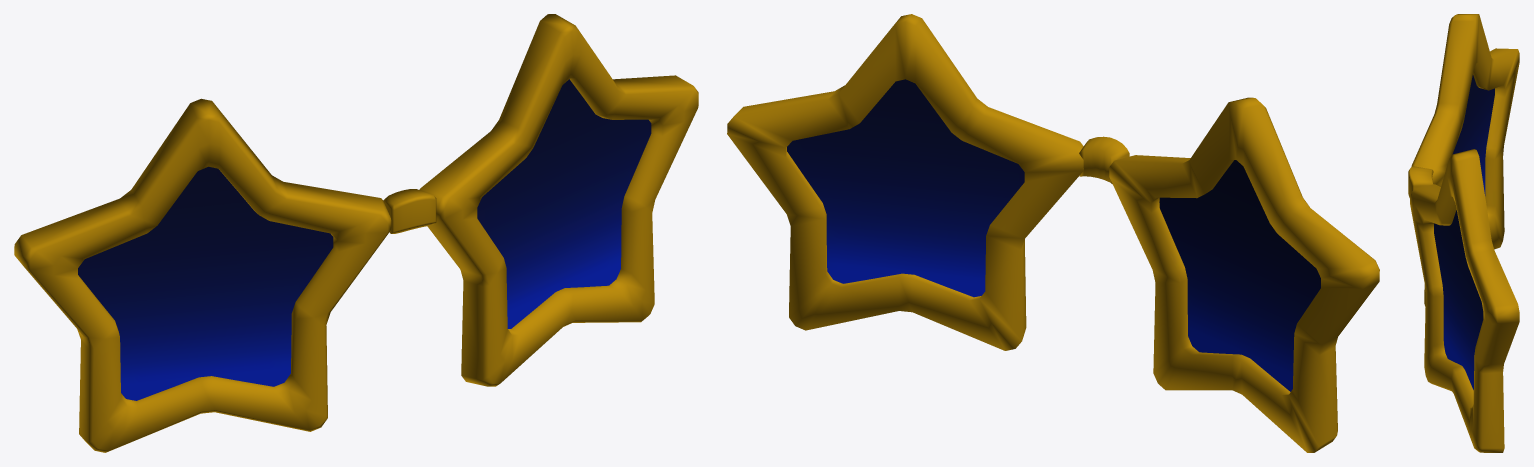
Rendered from AccessoryGlassStar0.glb.
The picture shows the model from 3 angles, left to right: view 1: azimuth 30°, elevation 25°; view 2: azimuth 150°, elevation 25°; view 3: azimuth 270°, elevation 25°; orthographic projection. The views are drawn at different scales.
Visible parts, largest first — view 1: Accessory__mAccessory; view 2: Accessory__mAccessory; view 3: Accessory__mAccessory.
Part boxes in pixels (box(x1,y1,x2,y2)): Accessory__mAccessory: box(14, 14, 698, 452); Accessory__mAccessory: box(727, 14, 1379, 452); Accessory__mAccessory: box(1408, 14, 1519, 452).
Size of the model in its own units: 6.38 by 3.03 by 1.15.
Materials: 1 (1 with a texture image).
